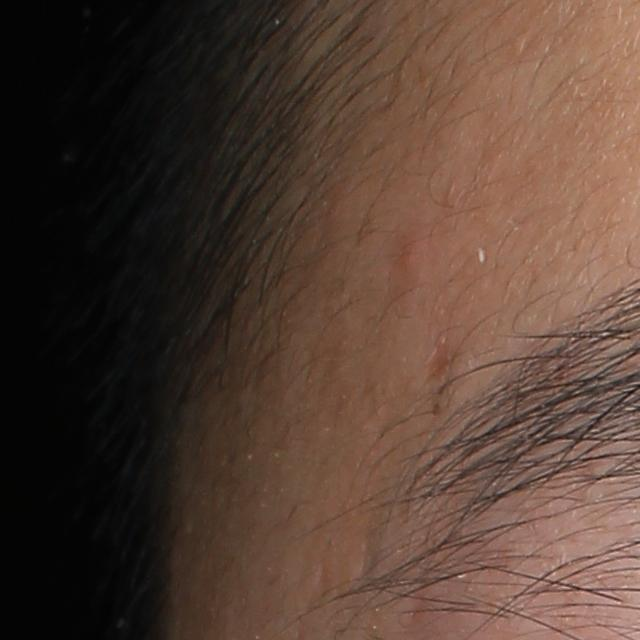papule: (397, 239, 423, 274)
